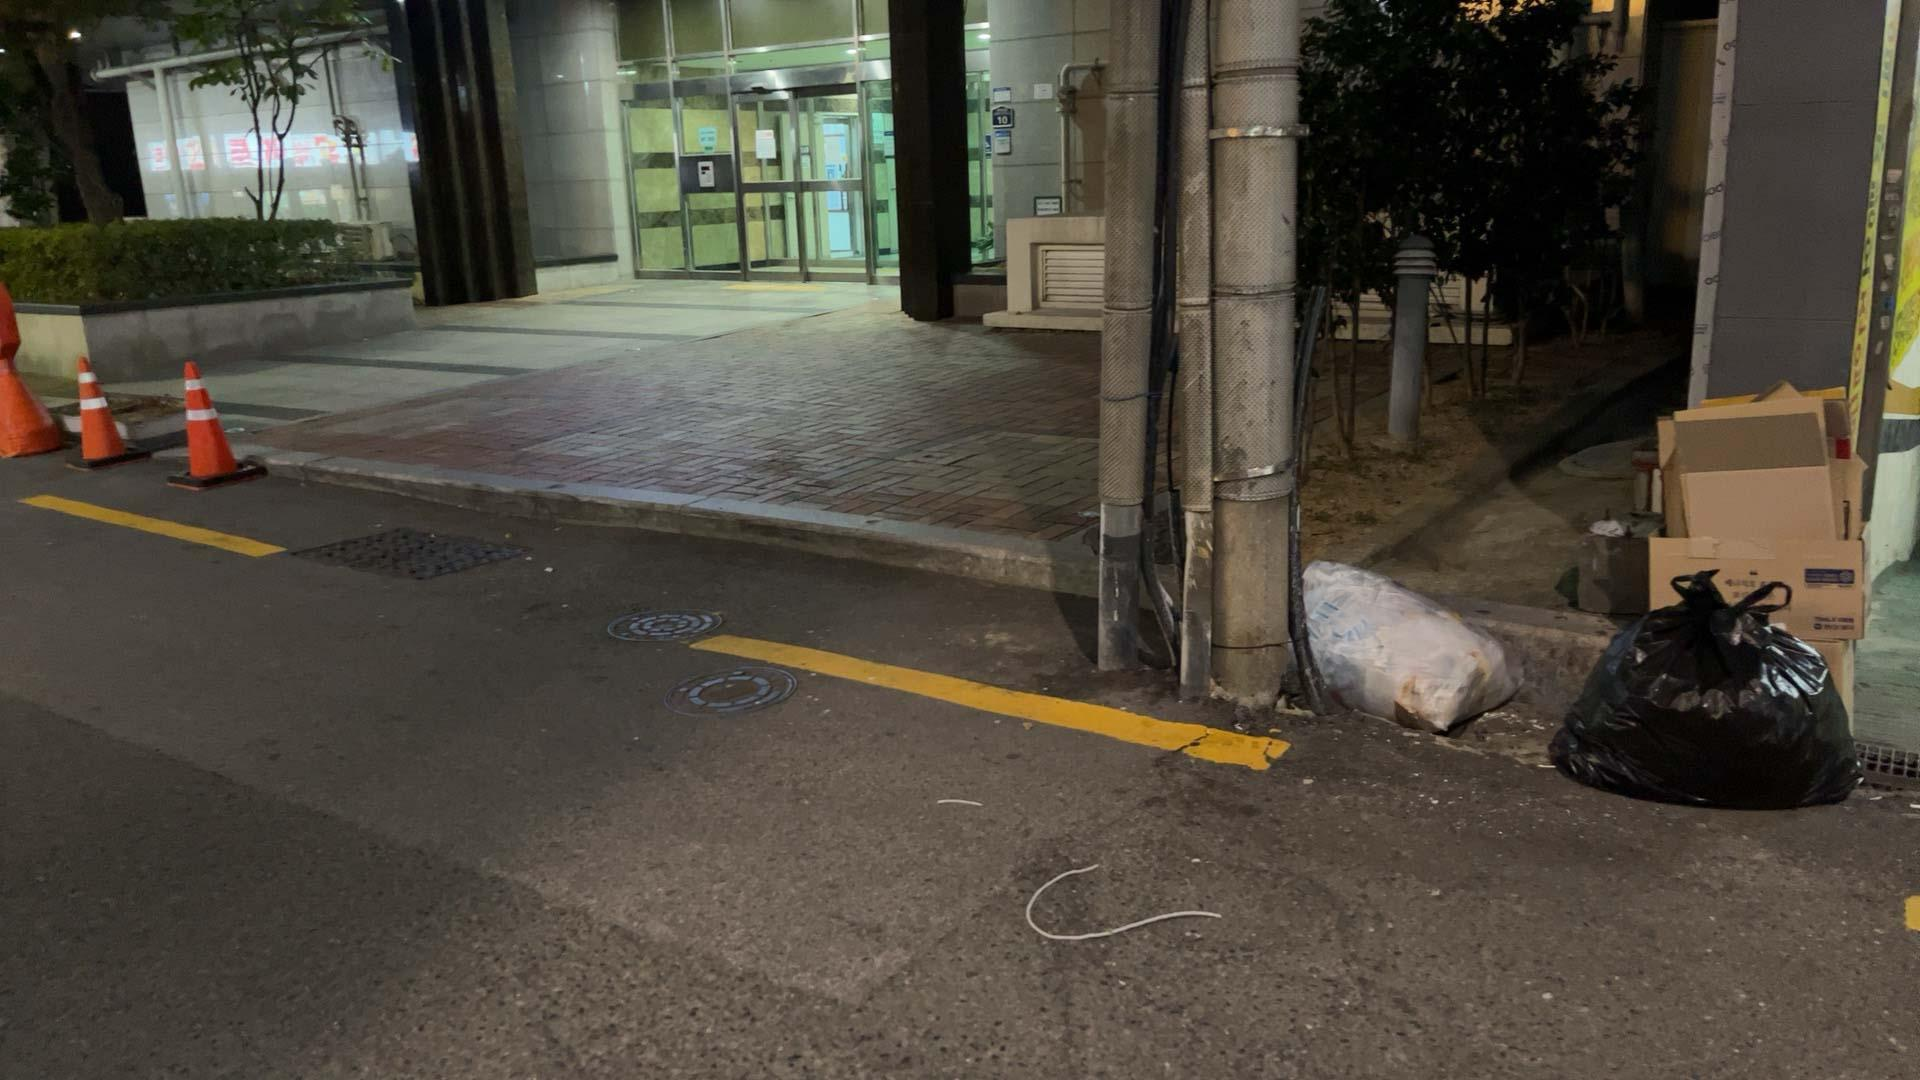black_bag: (1548, 556, 1879, 814)
white_bag: (1283, 542, 1530, 758)
